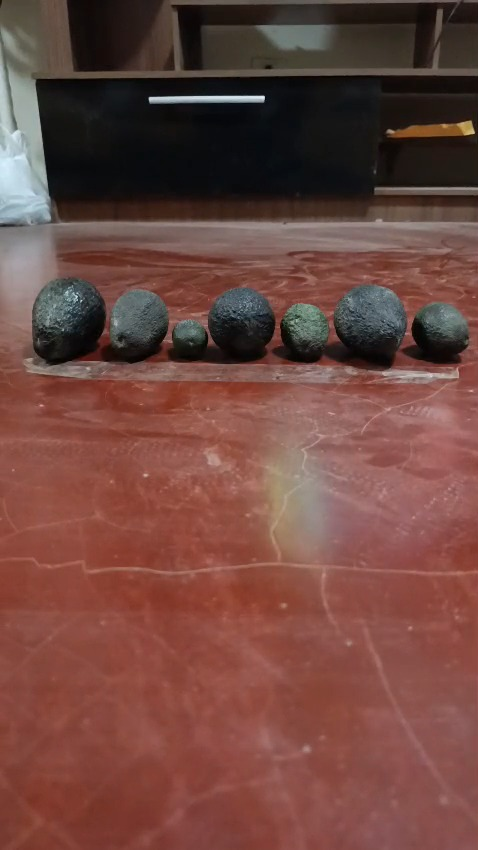Primera: (30, 276, 106, 362), (333, 284, 408, 361), (207, 287, 275, 358), (107, 287, 172, 360)
Segunda: (411, 301, 469, 359), (279, 302, 330, 362)
Tercera: (171, 319, 207, 358)
